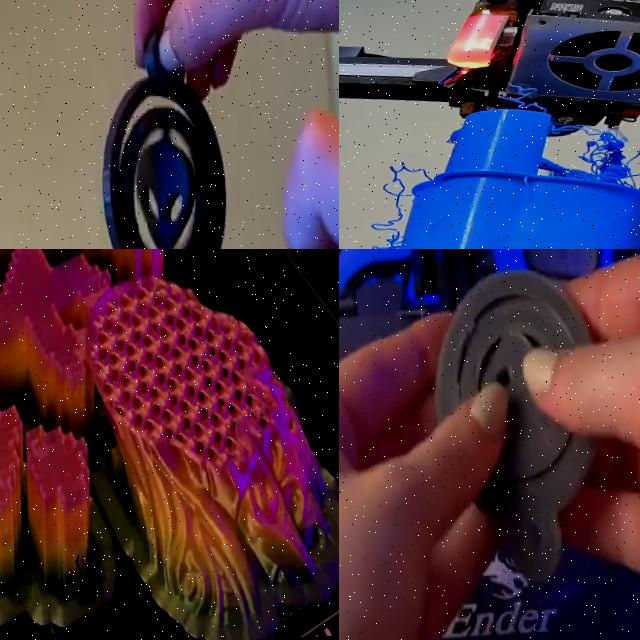spaghetti: (498, 77, 640, 204), (344, 150, 436, 249), (528, 127, 640, 191)
